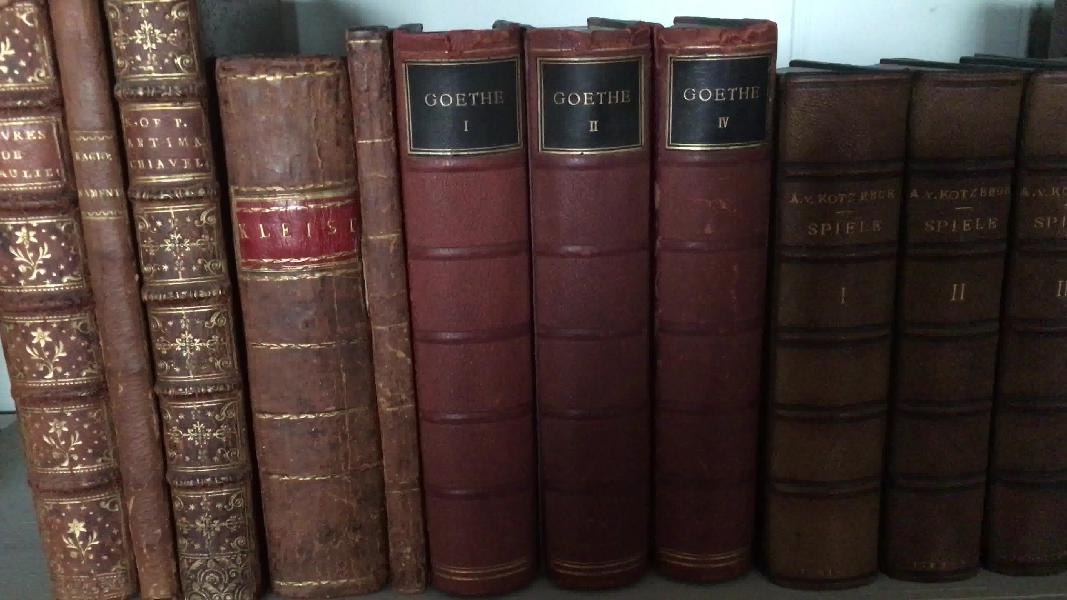Aa6-10: (333, 19, 431, 593)
Aa6-11_13: (386, 20, 781, 586)
Aa6-7: (36, 5, 182, 586)
Aa6-8: (98, 1, 277, 594)
Aa6-9: (197, 52, 388, 600)
